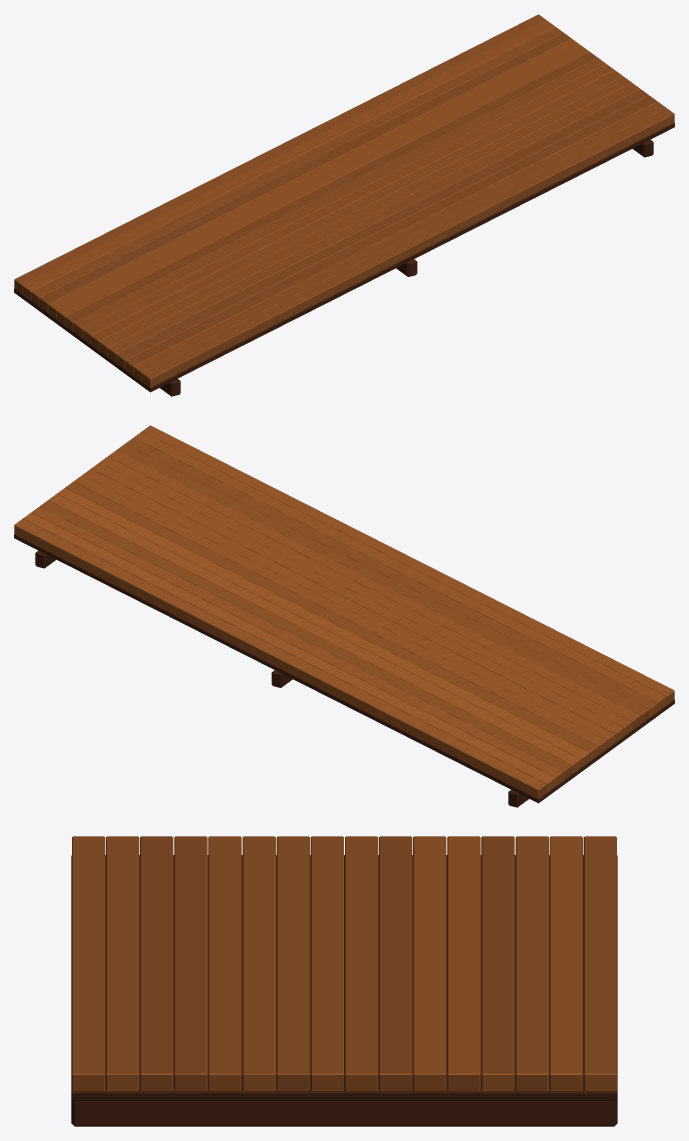
File: EH_LeanToRoof_4m.fbx
The picture shows the model from 3 angles, top to bottom: view 1: azimuth 30°, elevation 25°; view 2: azimuth 150°, elevation 25°; view 3: azimuth 270°, elevation 25°; orthographic projection. The views are drawn at different scales.
Parts seen in each view (by area): view 1: EH_LeanToRoof_4m; view 2: EH_LeanToRoof_4m; view 3: EH_LeanToRoof_4m.
Boxes of the visible parts, box(x1,y1,x2,y2) form: EH_LeanToRoof_4m: box(14, 14, 674, 396); EH_LeanToRoof_4m: box(14, 425, 674, 807); EH_LeanToRoof_4m: box(71, 836, 617, 1126).
Bounding box in the file's own units: 4.44 × 1.3 × 2.
